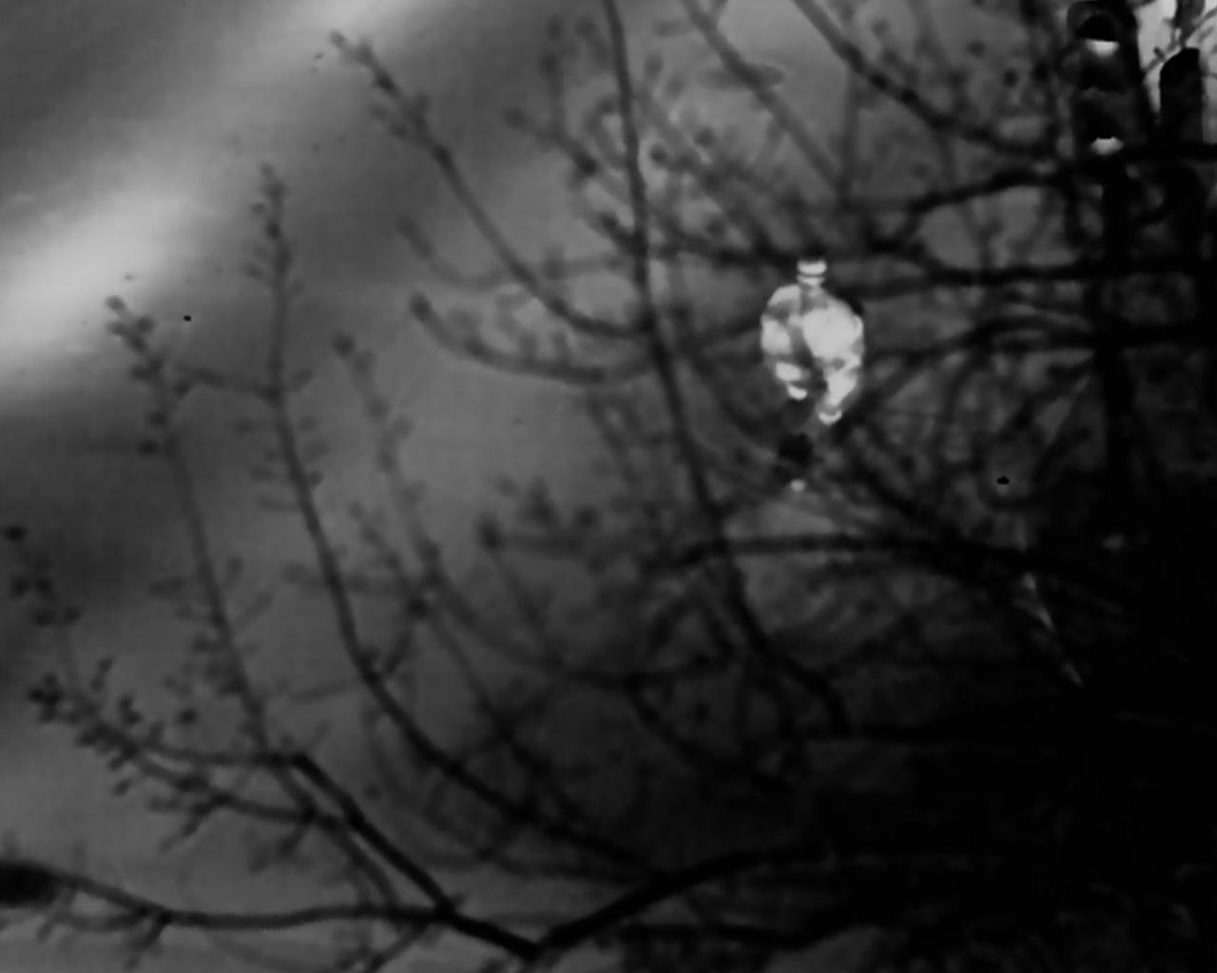person: (763, 260, 859, 439)
